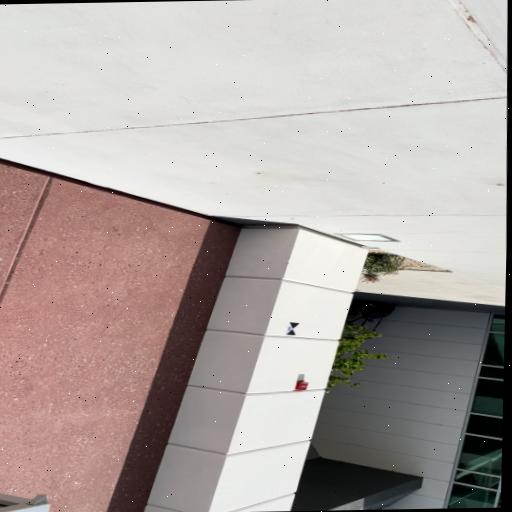target6: (285, 322, 300, 335)
